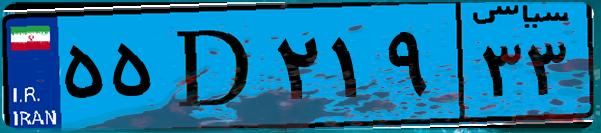1: (330, 28, 385, 110)
2: (270, 28, 330, 110)
3: (475, 38, 525, 113), (525, 38, 570, 115)
5: (57, 26, 110, 100), (110, 28, 158, 98)
9: (385, 28, 445, 110)
D: (158, 12, 270, 120)
